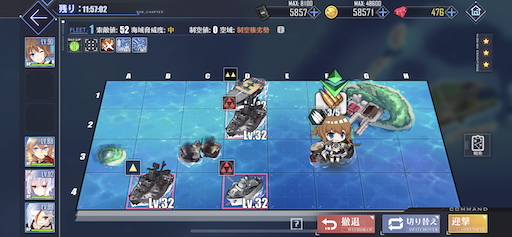lv1: (126, 161, 174, 209)
lv3: (218, 160, 269, 210), (222, 95, 267, 140)
